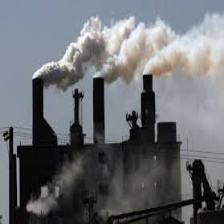smoke: (28, 11, 223, 90), (112, 166, 160, 210), (24, 194, 60, 213)
